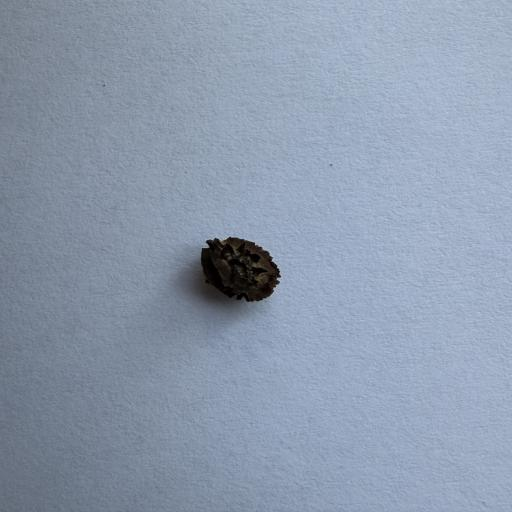papaya_seed: (183, 232, 298, 310)
